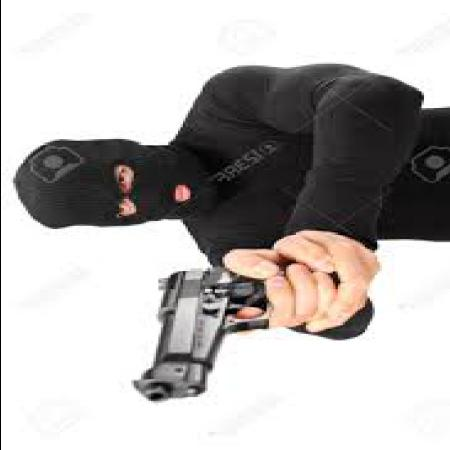Pistol: (120, 247, 332, 399)
